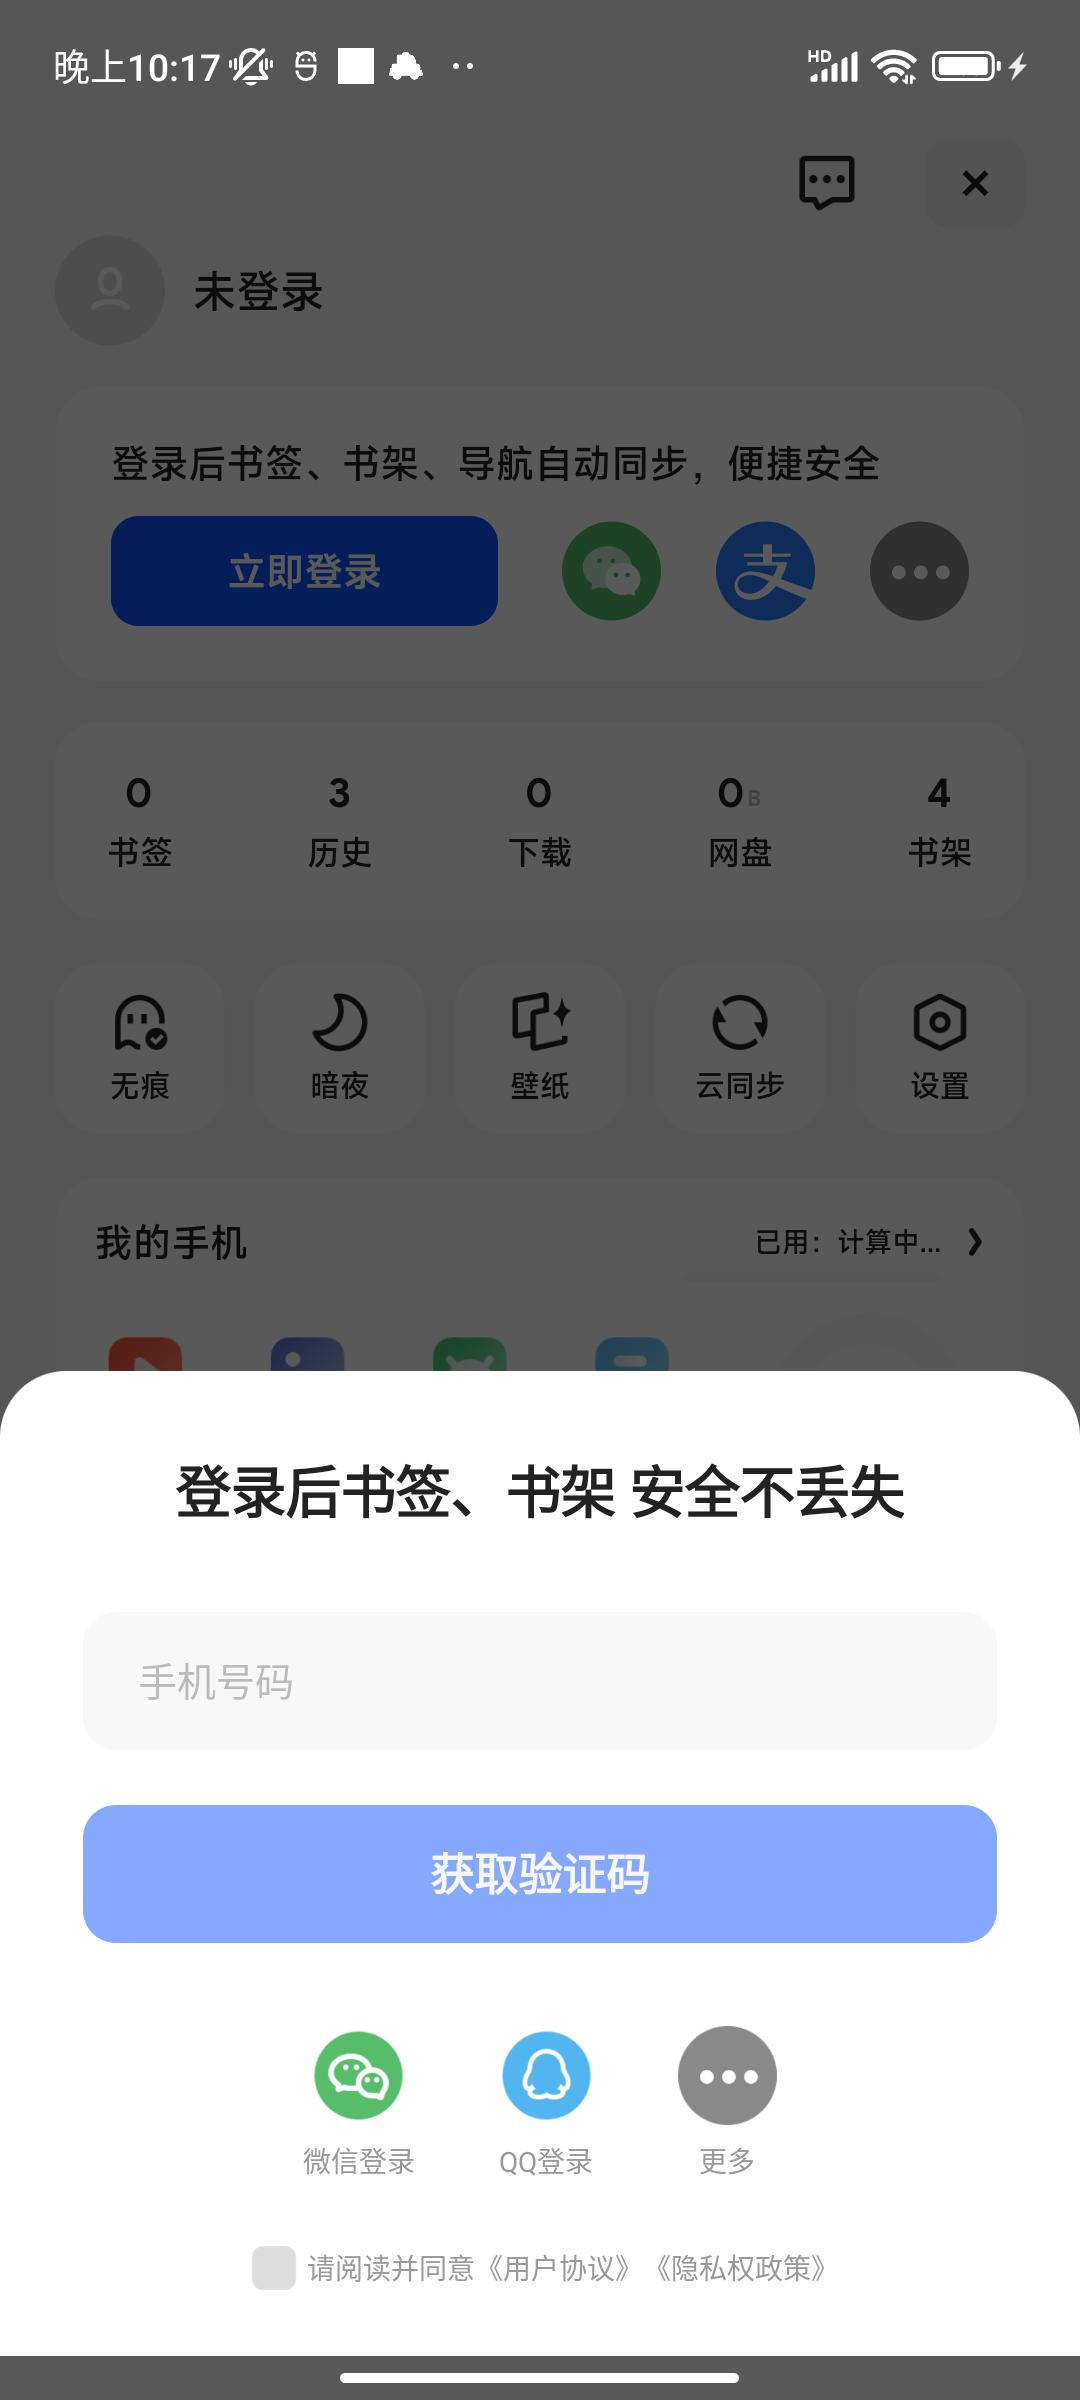ui_group: (43, 1393, 1037, 2330)
